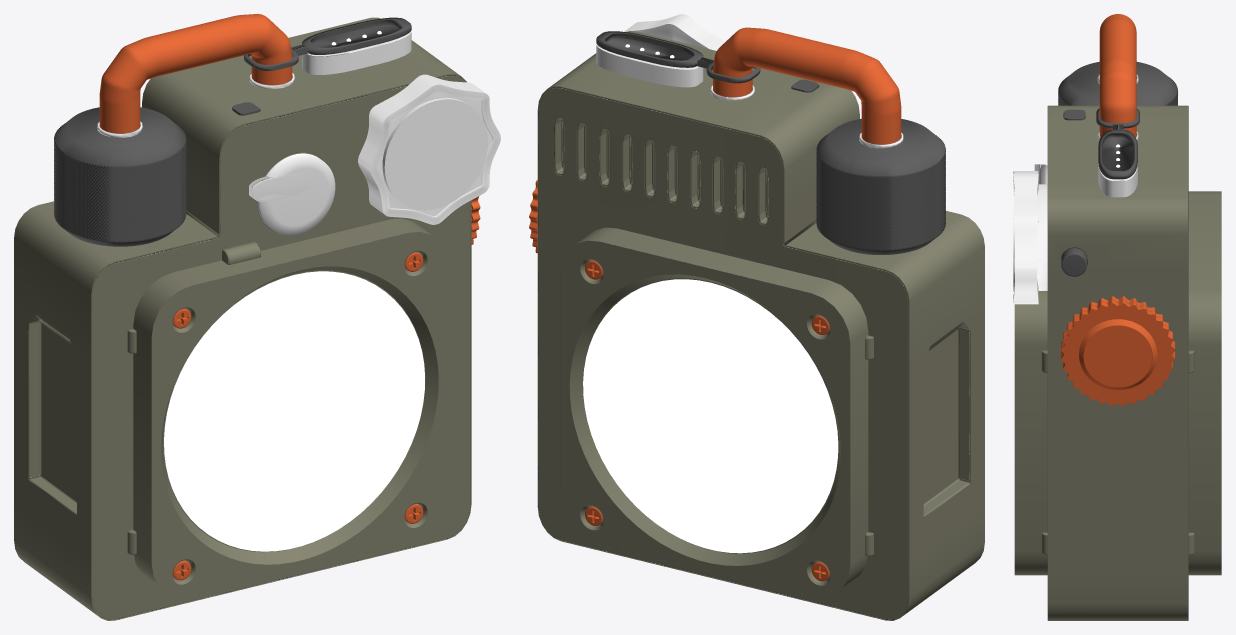
Rendered from skr.glb.
3 views of the same model, side by side, from view 1: azimuth 30°, elevation 25°; view 2: azimuth 150°, elevation 25°; view 3: azimuth 270°, elevation 25° (orthographic). The views are drawn at different scales.
Parts seen in each view (by area): view 1: Speaker_Grill; view 2: Speaker_Grill; view 3: Speaker_Grill.
Part boxes in pixels (x1,y1,x2,y2): Speaker_Grill: [14, 14, 500, 620]; Speaker_Grill: [529, 14, 984, 620]; Speaker_Grill: [1013, 14, 1221, 620].
Size of the model in its own units: 2.11 by 2.69 by 1.05.
